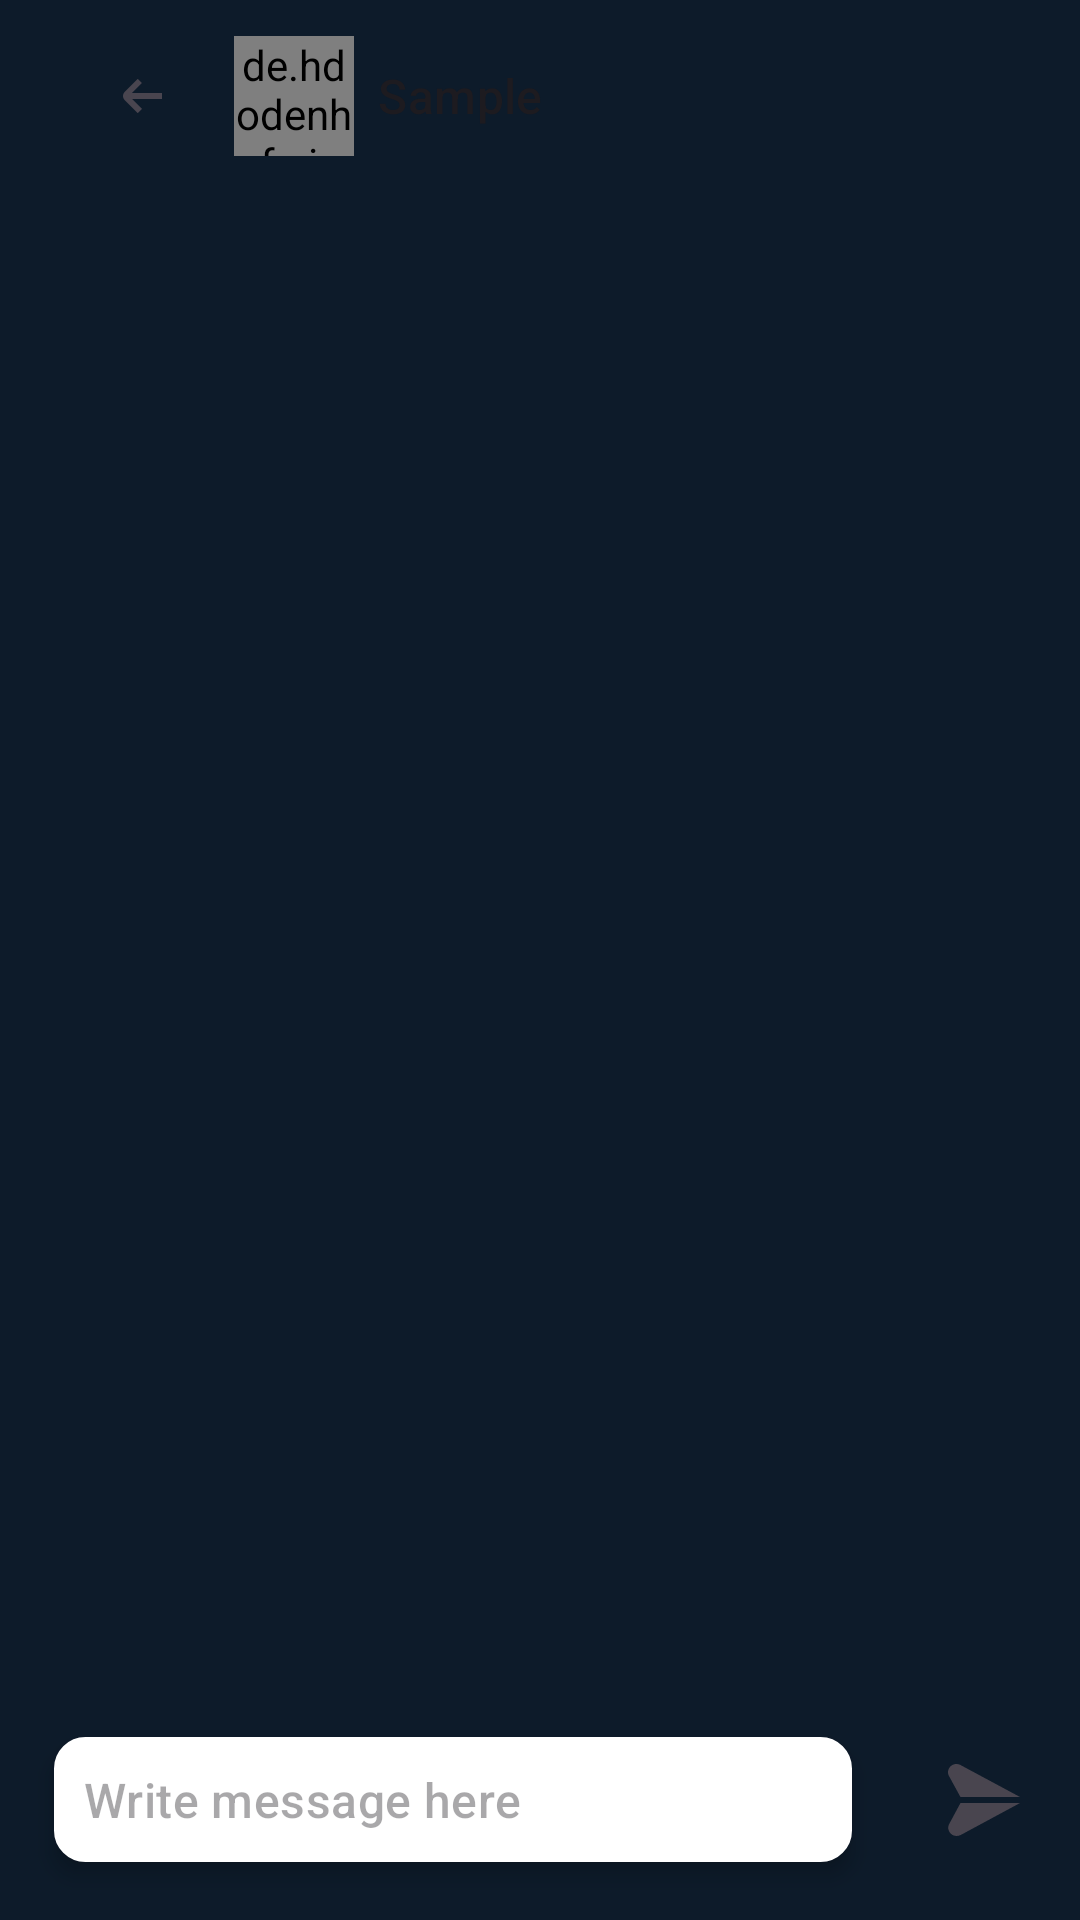

Where to tap for icons on this 1080×1920 app screen, as point (x, y):
back: point (142, 96)
send: point (983, 1800)
